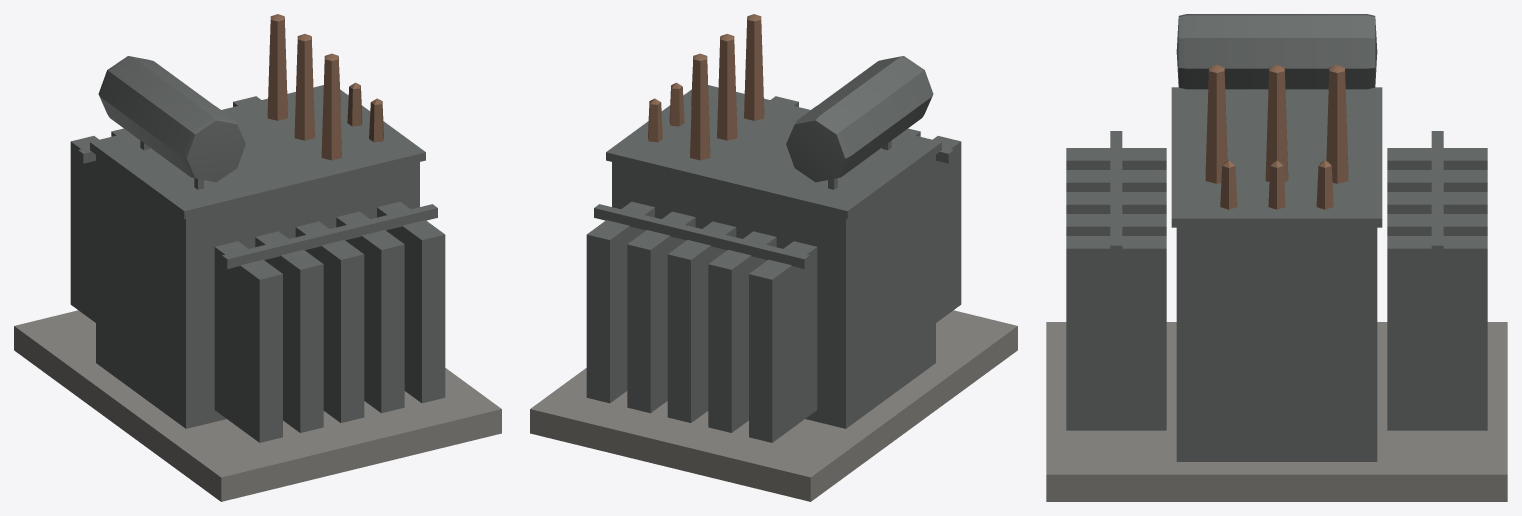
Rendered from SM_Prop_power_transformer_0_LOD1.glb.
3 renders of one model, left to right at view 1: azimuth 30°, elevation 25°; view 2: azimuth 150°, elevation 25°; view 3: azimuth 270°, elevation 25°, orthographic. The views are drawn at different scales.
Parts seen in each view (by area): view 1: SM_Prop_power_transformer_0_LOD1; view 2: SM_Prop_power_transformer_0_LOD1; view 3: SM_Prop_power_transformer_0_LOD1.
Part boxes in pixels (bbox=[...]): SM_Prop_power_transformer_0_LOD1: bbox=[14, 14, 501, 501]; SM_Prop_power_transformer_0_LOD1: bbox=[530, 14, 1017, 501]; SM_Prop_power_transformer_0_LOD1: bbox=[1046, 14, 1507, 501].
Bounding box in the file's own units: 3.6 × 4.25 × 4.6.
